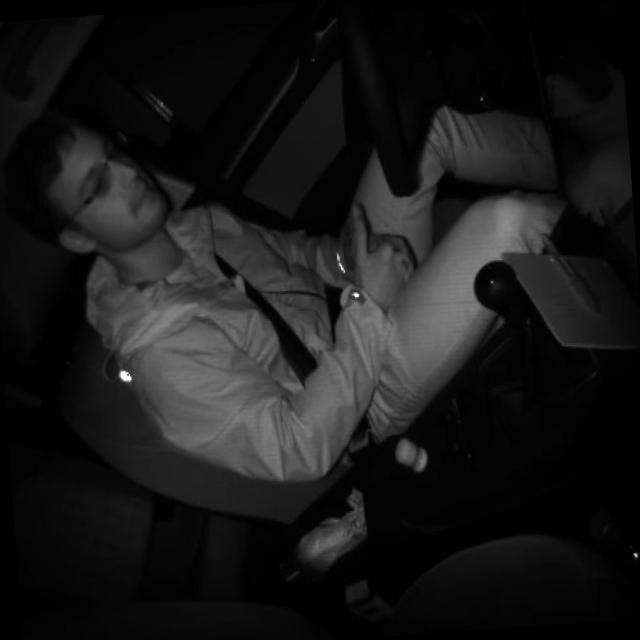pen: (538, 226, 604, 322)
